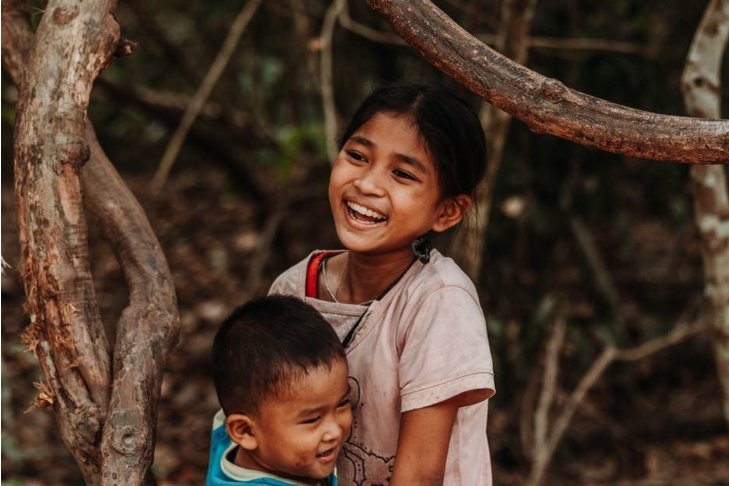face: (327, 114, 432, 254), (278, 358, 353, 478)
